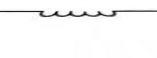inductor: (33, 3, 126, 25)
